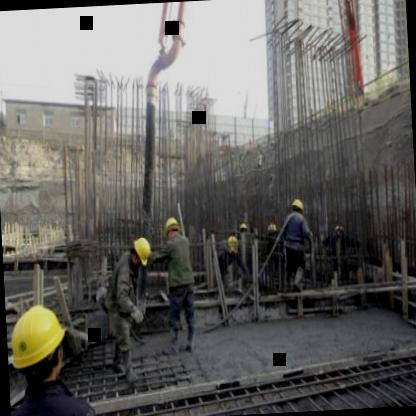helmet: (4, 296, 74, 386), (131, 234, 154, 269), (162, 212, 181, 239), (286, 197, 306, 220), (223, 236, 240, 254)
